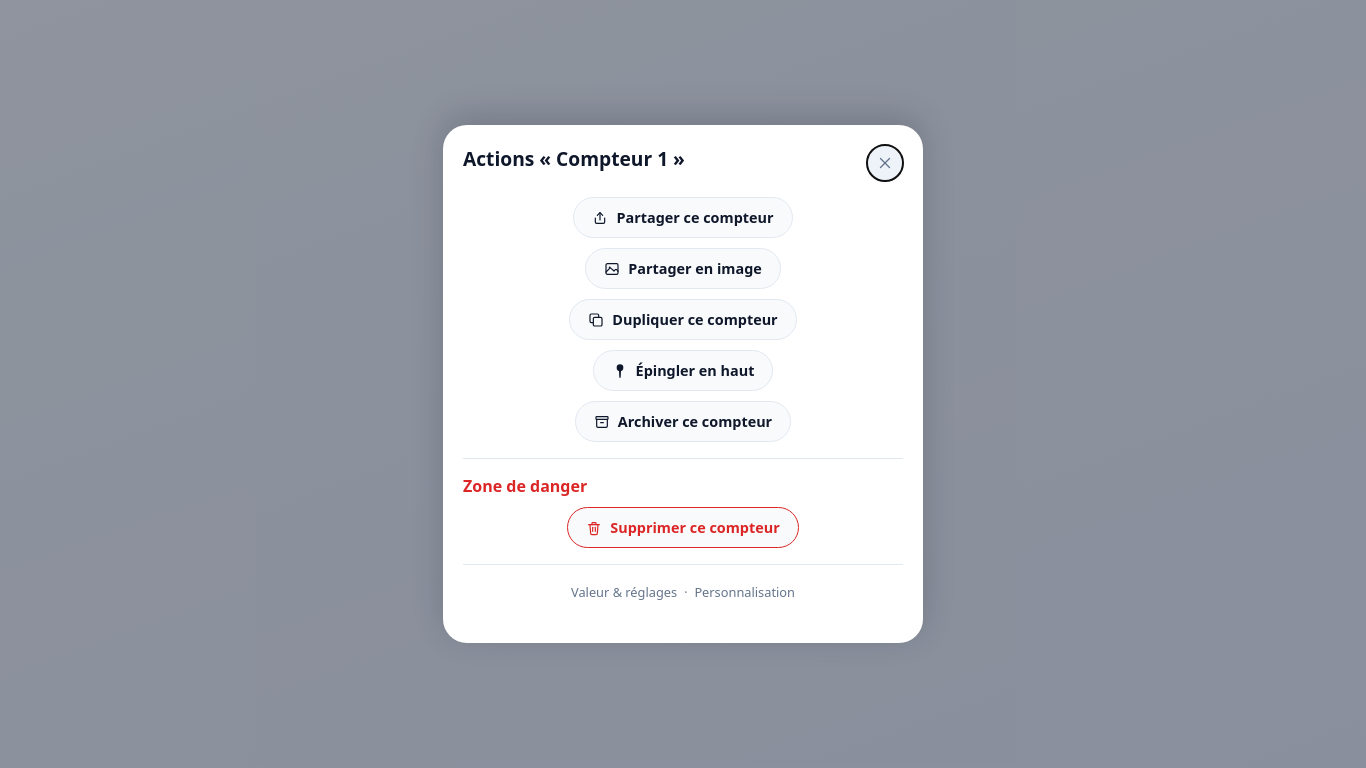
Scenario: CounterActionsPanel › suppression › demande une confirmation avant de supprimer
Step 1. Click the button "Supprimer ce compteur" → (683, 528), box top-left (567, 507), bottom-right (799, 548)
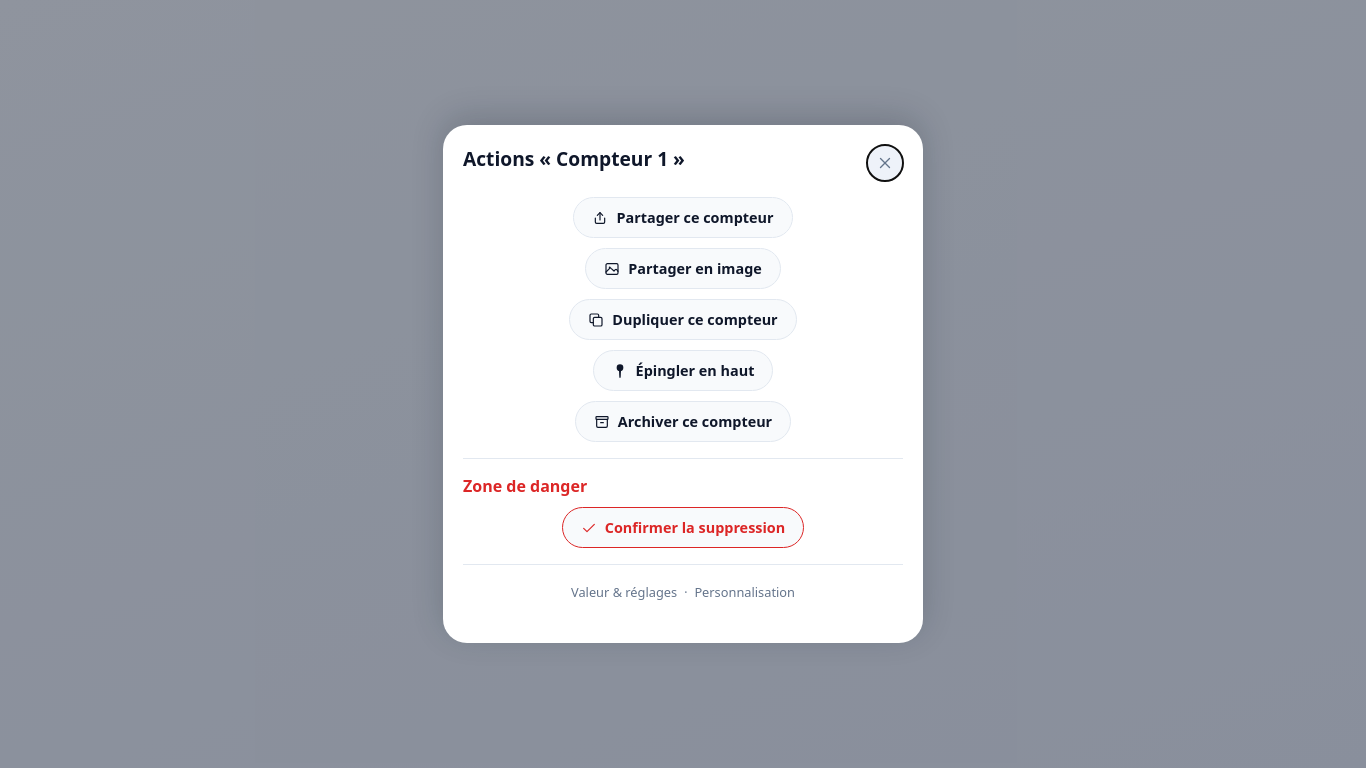
Check: the button "Confirmer la suppression" is shown, box top-left (562, 507), bottom-right (804, 548)
